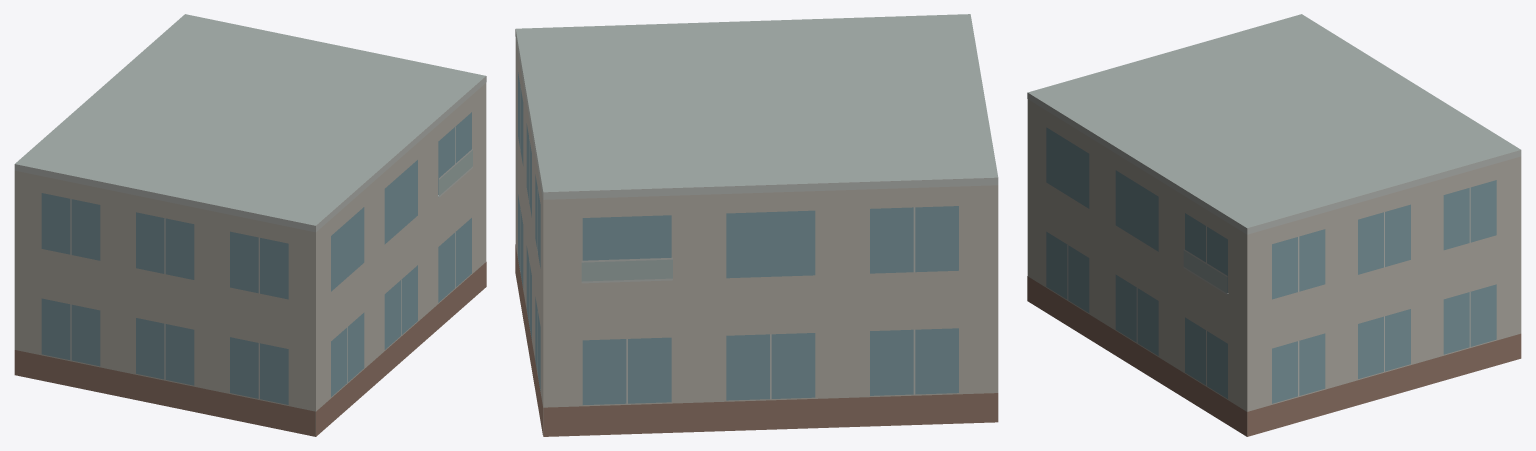
Rendered from survey-upis-32625523.glb.
3 views of the same model, side by side, from view 1: azimuth 30°, elevation 25°; view 2: azimuth 150°, elevation 25°; view 3: azimuth 270°, elevation 25° (orthographic). The views are drawn at different scales.
Parts seen in each view (by area): view 1: survey-upis-32625523.tmp; view 2: survey-upis-32625523.tmp; view 3: survey-upis-32625523.tmp.
Boxes of the visible parts, box(x1,y1,x2,y2) form: survey-upis-32625523.tmp: box(14, 14, 486, 436); survey-upis-32625523.tmp: box(515, 14, 998, 436); survey-upis-32625523.tmp: box(1027, 14, 1521, 436).
Size of the model in its own units: 17.3 by 7.85 by 16.85.
